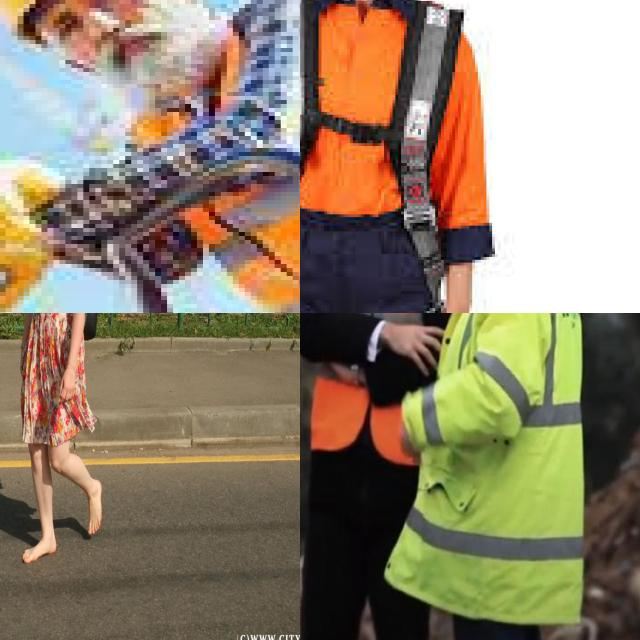Barefoots: (22, 537, 57, 563), (88, 479, 102, 535)
Harness: (300, 0, 465, 313)
face_nomask: (23, 0, 202, 92)
hand_noglove: (0, 156, 65, 248), (379, 315, 446, 380), (0, 252, 59, 313)
person: (0, 0, 300, 313), (447, 313, 594, 640), (300, 313, 440, 640)
vest: (143, 64, 300, 313), (447, 313, 576, 610), (314, 313, 455, 434)
